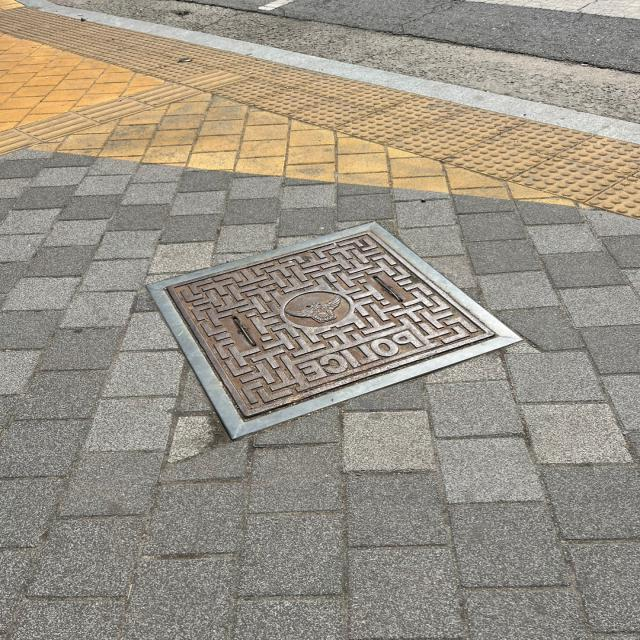Sewer Cover: (130, 210, 540, 456)
